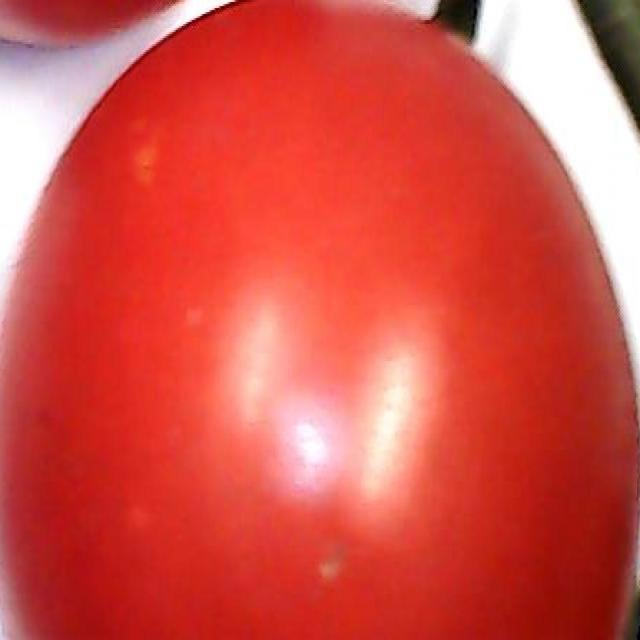Healthy Fruit: (12, 4, 427, 427)
